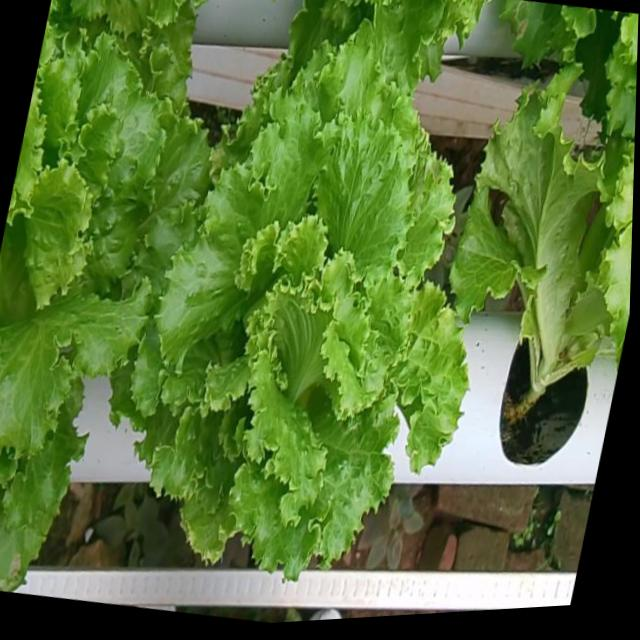Mature: (133, 62, 471, 604), (0, 54, 214, 491)
